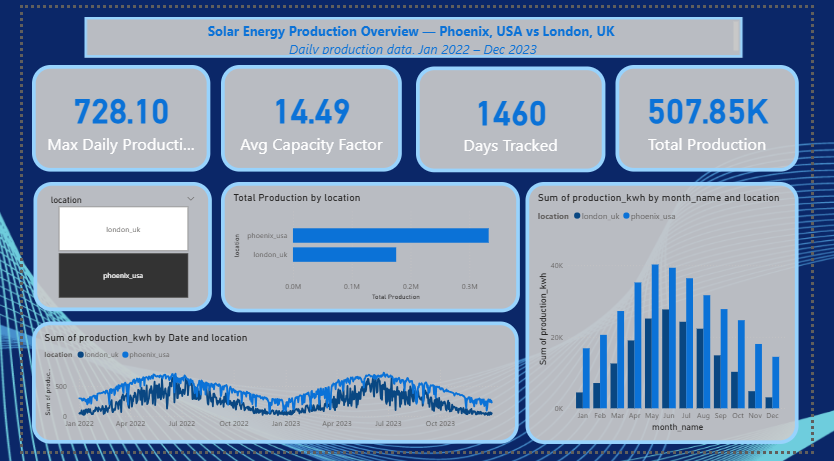

The page's visual inventory and layout, read from the dashboard file:
{"tool":"powerbi","page":{"name":"Production Overview","canvas":[1280,720],"ordinal":0},"visuals":[{"type":"card","title":"Total Production","fields":{"Values":["production_clean.Avg Capacity Factor"]},"box":[321.4,93,293.9,173.4],"z":0},{"type":"card","title":"Total Production","fields":{"Values":["production_clean.Max Daily Production"]},"box":[14.8,93,289.7,173.4],"z":1000},{"type":"card","title":"Total Production","fields":{"Values":["production_clean.Days Tracked"]},"box":[640,94,308,172],"z":2000},{"type":"card","title":"Total Production","fields":{"Values":["production_clean.Total Production"]},"box":[964.2,93,298.2,173.4],"z":3000},{"type":"slicer","fields":{"Values":["forecast_output.location"]},"box":[16,282,290,210],"z":4000},{"type":"lineChart","fields":{"Y":["Sum(production_clean.production_kwh)"],"Series":["production_clean.location"],"Category":["DateTable.Date"]},"box":[15.5,509.9,791.5,198.6],"z":5000},{"type":"barChart","fields":{"Category":["production_clean.location"],"Y":["production_clean.Total Production"]},"box":[322,282,486,212],"z":6000},{"type":"clusteredColumnChart","fields":{"Y":["Sum(production_clean.production_kwh)"],"Series":["production_clean.location"],"Category":["production_clean.month_name"]},"box":[818,282,444,426],"z":7000},{"type":"textbox","box":[100,14,1070,66],"z":8000}]}

Visuals, with their boxes in screenshot pixels (x1, y1, x2, y2), scaled from the page's 1280x720 canvas onto the 834x461 screenshot:
"Total Production" card: 209 60 401 171
"Total Production" card: 10 60 198 171
"Total Production" card: 417 60 618 170
"Total Production" card: 628 60 823 171
slicer - forecast_output.location: 10 181 199 315
lineChart - Sum(production_clean.production_kwh) x production_clean.location: 10 326 526 454
barChart - production_clean.location x production_clean.Total Production: 210 181 526 316
clusteredColumnChart - Sum(production_clean.production_kwh) x production_clean.location: 533 181 822 453
textbox: 65 9 762 51
